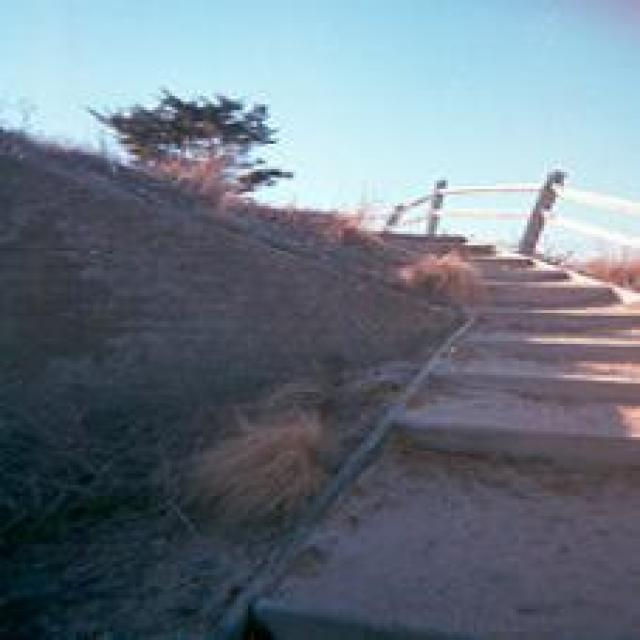upstair: (365, 204, 638, 441)
